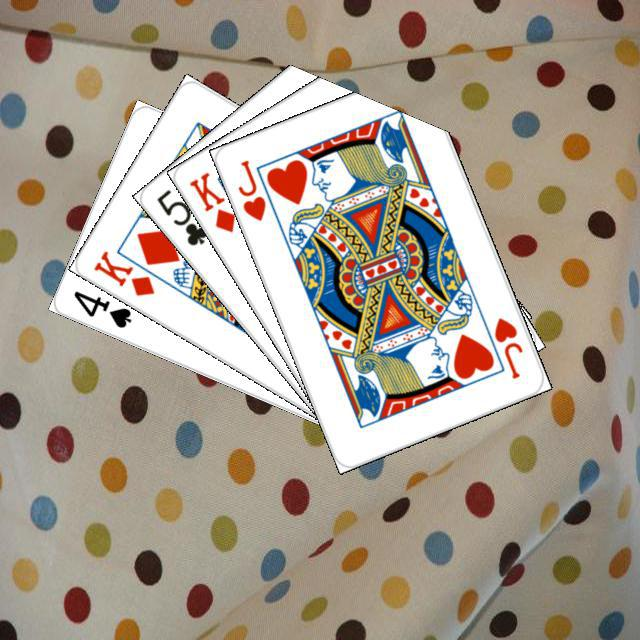4s: (68, 285, 133, 330)
5c: (151, 184, 210, 248)
Jh: (489, 312, 525, 381), (233, 155, 268, 223)
Kd: (184, 167, 238, 235), (88, 245, 157, 298)
